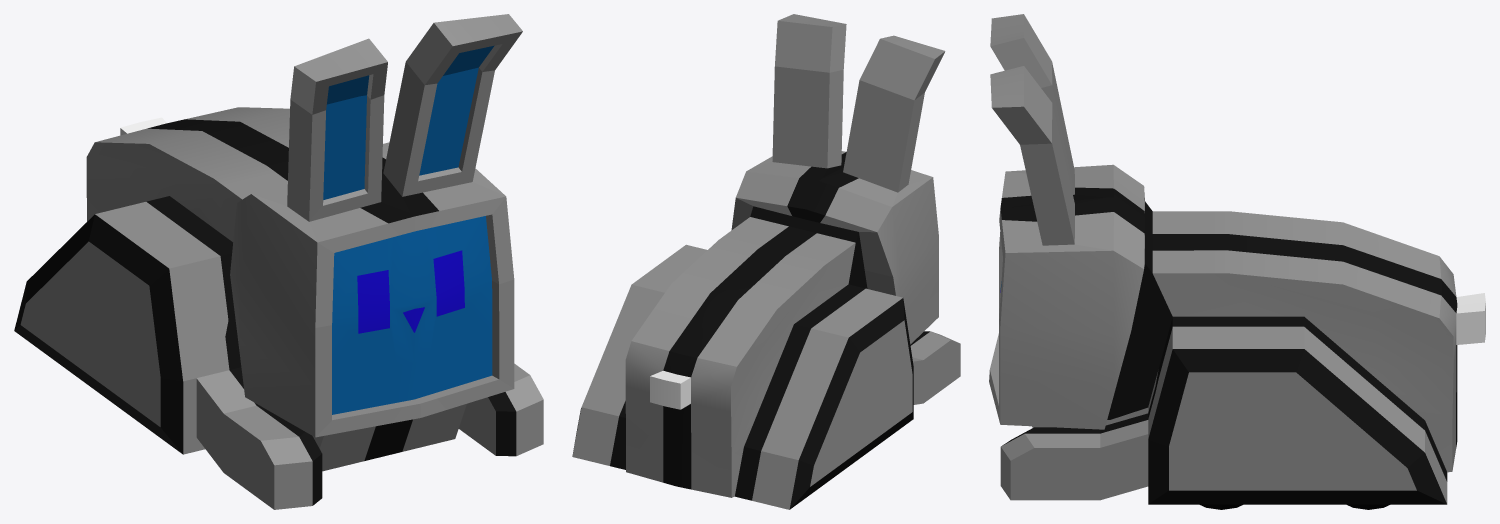
File: bunnybot 2.fbx
3 views of the same model, side by side, from view 1: azimuth 30°, elevation 25°; view 2: azimuth 150°, elevation 25°; view 3: azimuth 270°, elevation 25° (orthographic). The views are drawn at different scales.
Parts seen in each view (by area): view 1: Box001; view 2: Box001; view 3: Box001.
Part boxes in pixels (bbox=[...]): Box001: bbox=[14, 14, 543, 509]; Box001: bbox=[572, 14, 960, 509]; Box001: bbox=[989, 14, 1485, 504].
Size of the model in its own units: 42.54 by 58.38 by 65.09.
